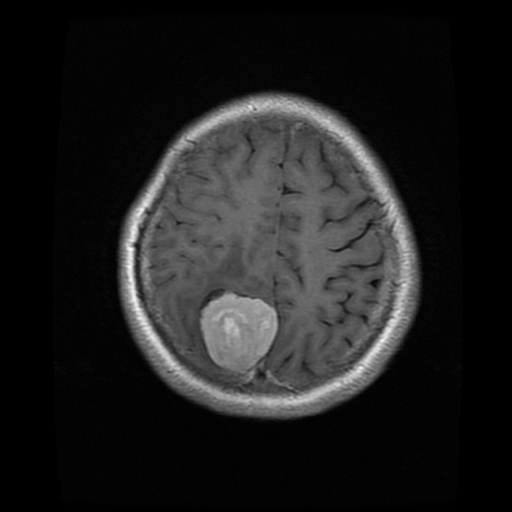meningioma: (201, 291, 278, 373)
